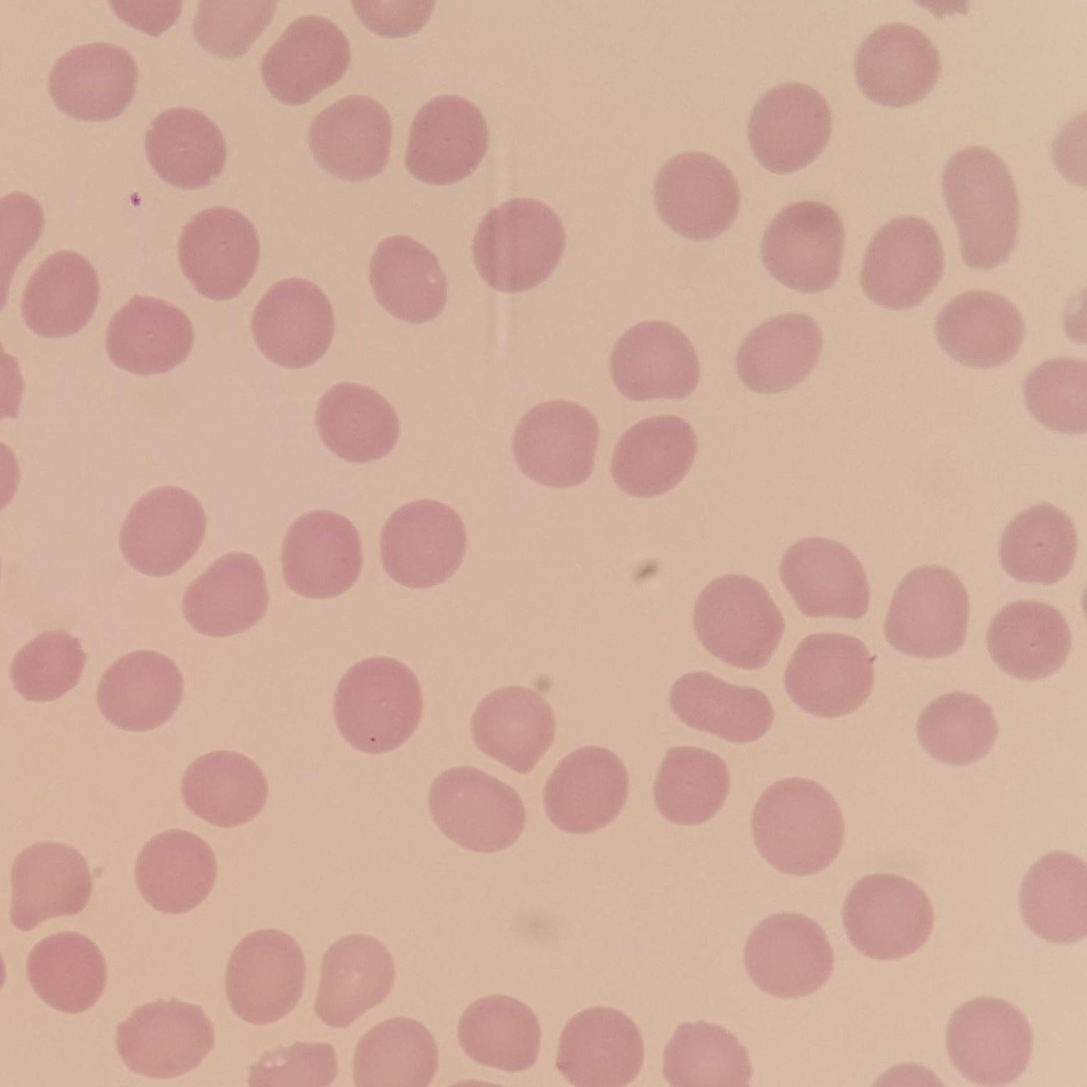Uninfected: (942, 146, 1022, 269), (750, 777, 845, 875), (332, 656, 424, 754), (472, 198, 565, 291), (426, 765, 524, 853), (694, 576, 784, 669), (882, 565, 971, 659), (748, 81, 836, 176), (222, 927, 308, 1024), (118, 485, 208, 577), (782, 632, 876, 718), (777, 536, 870, 622), (175, 205, 261, 298), (114, 997, 212, 1078), (510, 399, 600, 487), (379, 499, 467, 588), (259, 16, 349, 103), (842, 873, 932, 960), (743, 912, 835, 997), (9, 840, 94, 932), (313, 933, 396, 1027), (668, 669, 769, 746), (760, 200, 846, 289), (404, 93, 489, 183), (251, 277, 336, 367), (652, 151, 739, 238), (281, 509, 365, 599), (309, 94, 396, 180), (542, 747, 627, 835), (134, 828, 219, 916), (946, 996, 1030, 1085), (861, 216, 944, 306), (105, 293, 196, 375), (470, 685, 555, 772), (182, 553, 270, 637), (610, 318, 699, 401), (97, 649, 185, 732), (855, 22, 940, 107), (315, 379, 401, 463), (933, 288, 1022, 369), (21, 249, 101, 339), (612, 414, 698, 497), (735, 313, 823, 394), (369, 234, 450, 322), (554, 1007, 643, 1087), (47, 42, 137, 121), (986, 600, 1071, 682), (180, 749, 268, 828), (24, 931, 107, 1014), (146, 106, 229, 188), (997, 502, 1078, 586), (456, 995, 542, 1073), (1017, 850, 1087, 944), (653, 745, 734, 826), (915, 691, 997, 767), (662, 1020, 748, 1087), (354, 1017, 437, 1086), (10, 628, 87, 702), (1022, 357, 1086, 431), (191, 3, 275, 57)
